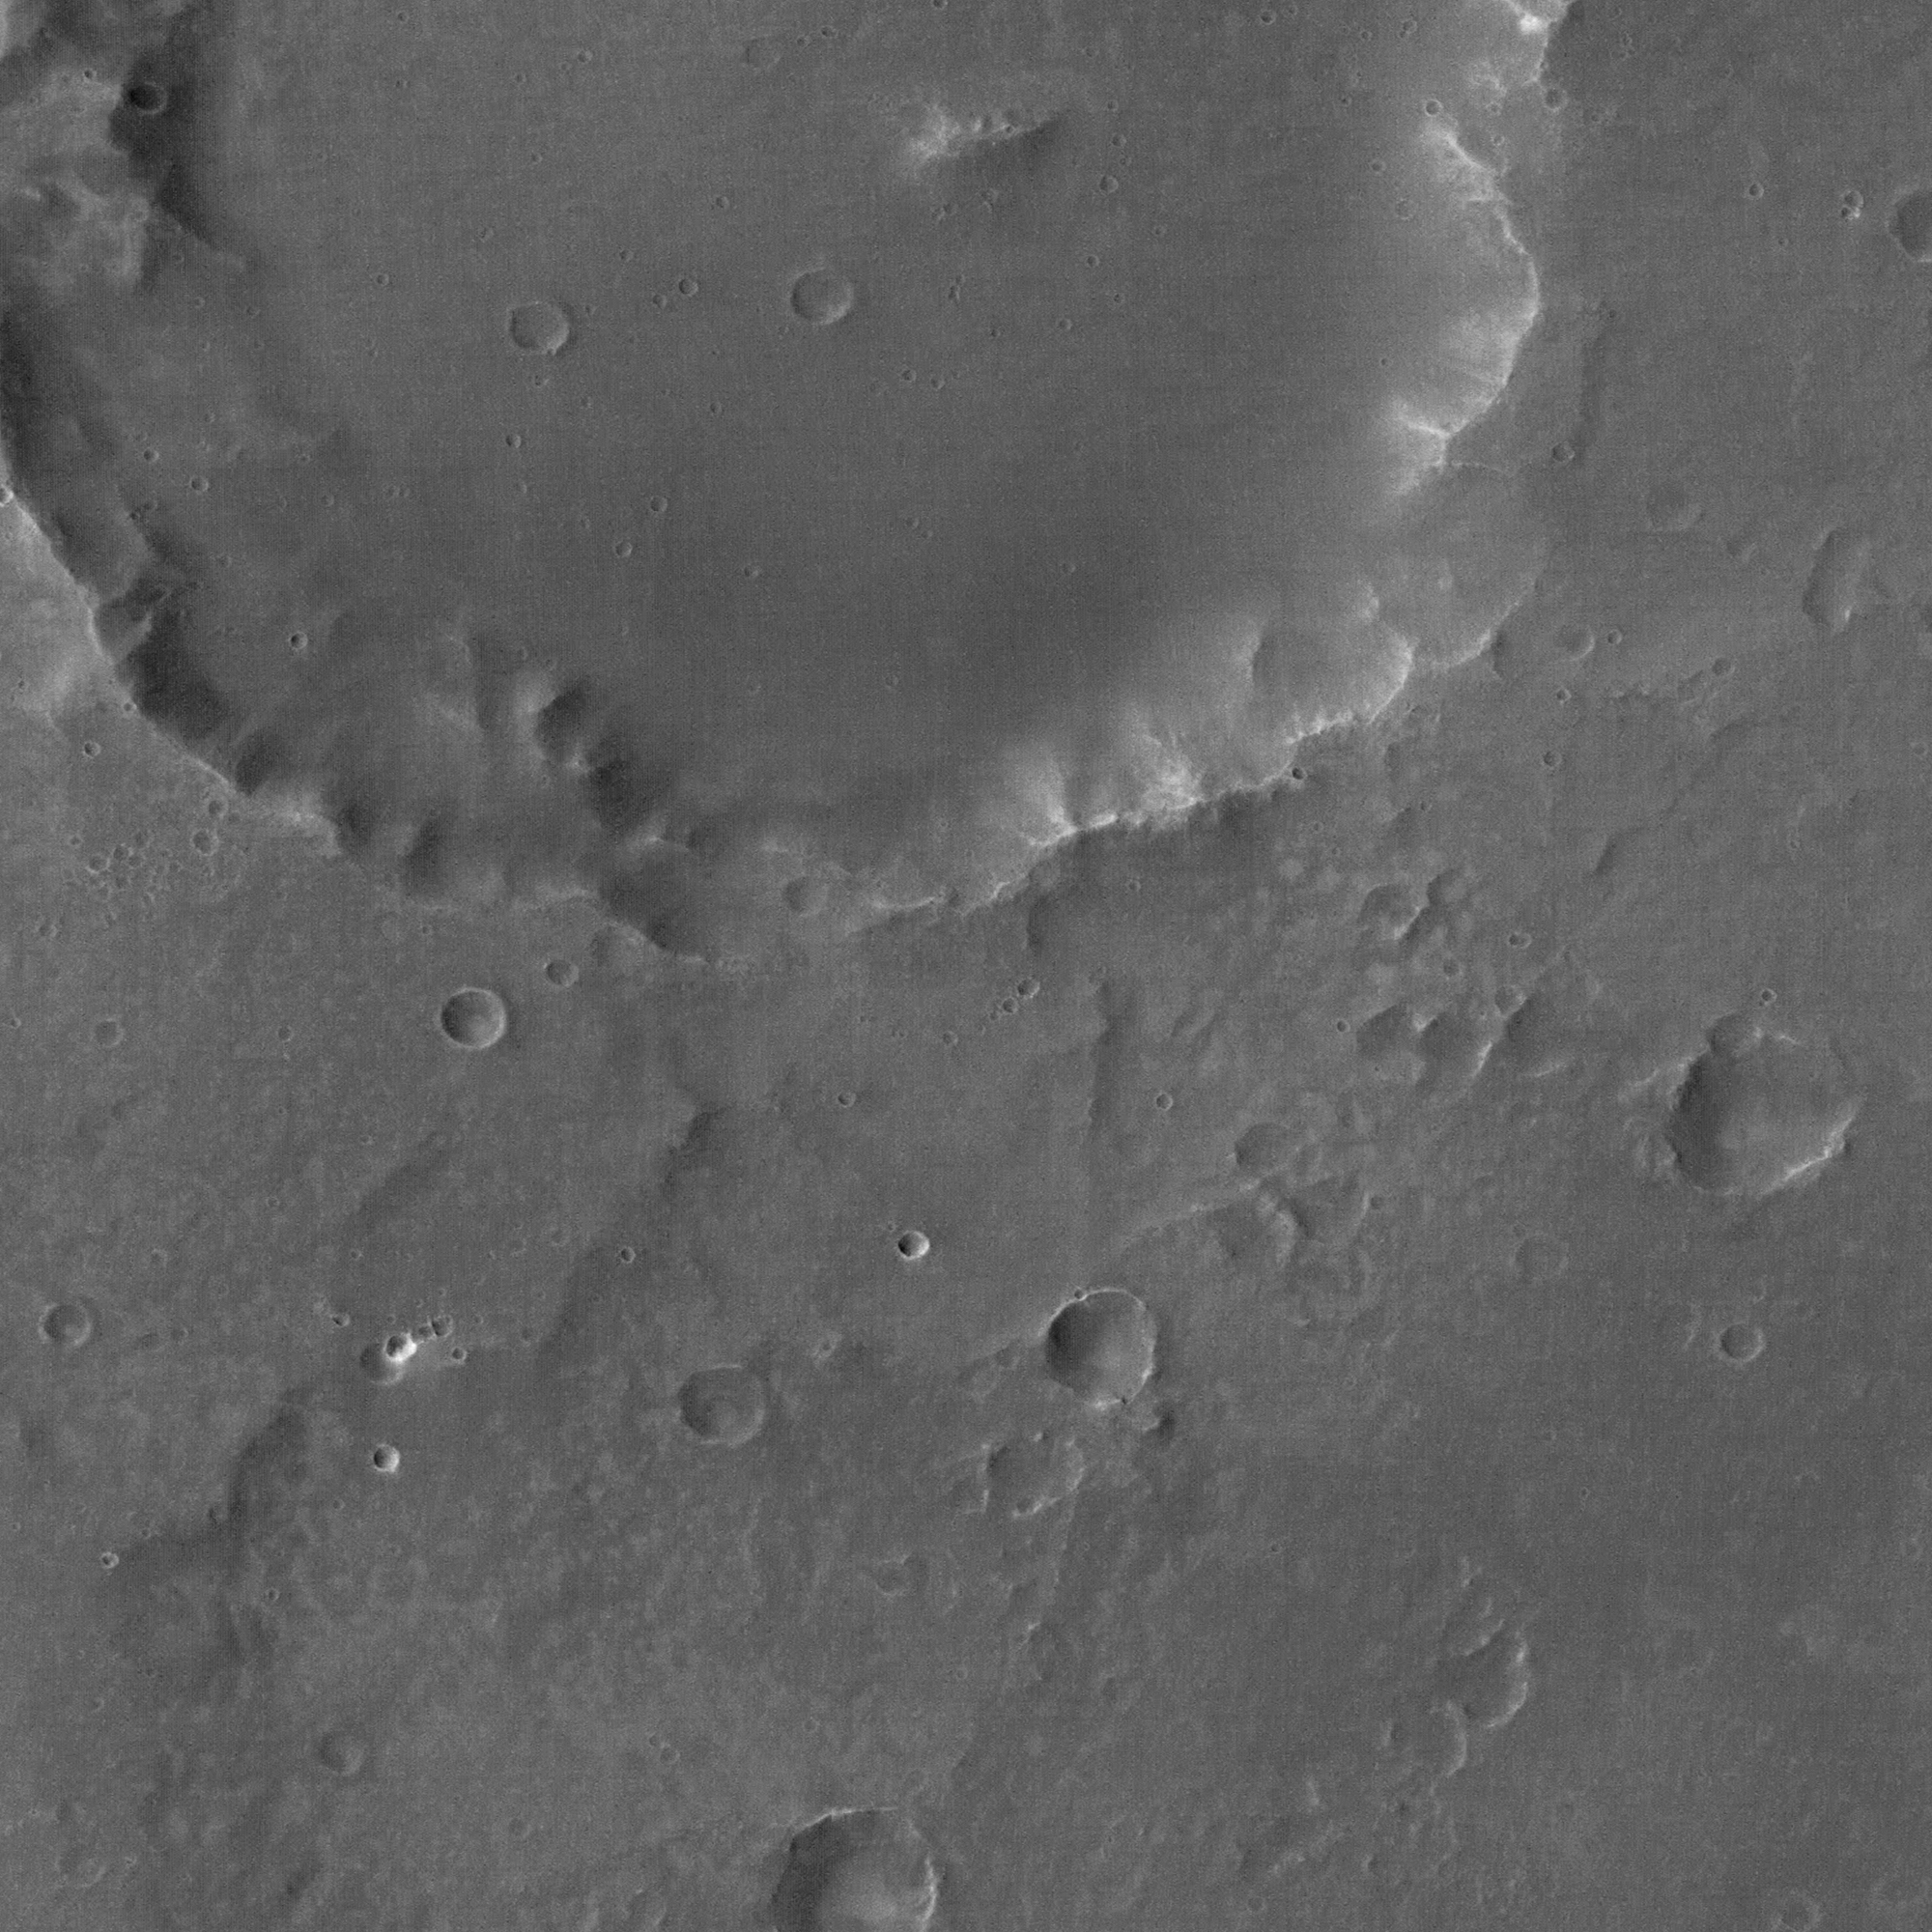crater: (1352, 464, 1545, 655), (1672, 1037, 1836, 1201), (794, 1801, 925, 1932), (1044, 1288, 1161, 1405), (987, 1430, 1077, 1520), (678, 1364, 764, 1453), (1444, 1642, 1529, 1727), (1353, 1014, 1419, 1077), (87, 600, 150, 663), (442, 987, 504, 1051), (1235, 1122, 1297, 1182), (510, 301, 568, 357), (793, 269, 849, 327), (1361, 885, 1414, 938), (1813, 529, 1867, 580), (1647, 479, 1698, 531), (1801, 577, 1852, 628), (1516, 1235, 1566, 1283), (58, 1842, 106, 1890), (1709, 1012, 1757, 1058), (318, 1729, 364, 1776), (44, 1304, 88, 1348), (361, 1343, 403, 1387), (784, 876, 826, 918), (1720, 1322, 1760, 1362), (1426, 874, 1465, 911), (628, 1890, 665, 1927), (1780, 1895, 1817, 1930), (1557, 625, 1592, 662), (961, 1359, 996, 1394), (876, 1560, 909, 1596), (745, 37, 778, 71), (133, 81, 165, 113), (1504, 1099, 1536, 1131), (547, 959, 575, 989), (1493, 985, 1522, 1014), (899, 1231, 927, 1260), (386, 1332, 412, 1361), (96, 1021, 122, 1047), (373, 1445, 398, 1472), (193, 830, 218, 855), (1545, 87, 1568, 110), (142, 1330, 165, 1353), (994, 1348, 1017, 1371), (55, 1801, 78, 1824), (432, 1316, 453, 1338), (1552, 442, 1573, 464), (1394, 198, 1415, 219), (1713, 656, 1734, 678), (550, 1228, 571, 1247), (1444, 957, 1463, 978), (510, 1819, 529, 1838), (189, 1212, 209, 1231), (1099, 175, 1118, 195), (88, 855, 108, 874), (209, 1504, 228, 1523), (679, 278, 697, 297), (1844, 191, 1863, 209), (209, 800, 228, 817), (1017, 978, 1037, 996), (418, 1325, 435, 1343), (133, 830, 150, 847), (520, 1325, 538, 1343), (660, 1746, 678, 1764), (1905, 1541, 1923, 1559), (649, 495, 667, 513), (290, 632, 308, 649), (1247, 1897, 1265, 1914), (1424, 99, 1442, 117), (88, 872, 106, 890), (1796, 1304, 1813, 1322), (39, 924, 57, 939), (1799, 1470, 1815, 1488), (508, 1237, 524, 1254), (1545, 750, 1560, 768), (1001, 996, 1017, 1014), (111, 846, 129, 862), (150, 1249, 166, 1267), (616, 541, 632, 557), (1509, 932, 1525, 948), (821, 1341, 837, 1357), (839, 1092, 855, 1108), (1369, 1196, 1385, 1212), (1155, 1093, 1171, 1109), (143, 448, 159, 464), (172, 1327, 188, 1343), (101, 1552, 117, 1568), (191, 476, 207, 492), (1518, 932, 1534, 948), (133, 428, 149, 444), (1403, 19, 1419, 34), (803, 1718, 817, 1734), (85, 741, 99, 757), (1260, 11, 1276, 25), (1543, 1428, 1557, 1442), (1371, 159, 1385, 173), (747, 679, 761, 694), (579, 50, 593, 64), (1762, 989, 1776, 1003), (743, 564, 757, 579), (1608, 630, 1622, 644), (506, 433, 520, 448), (334, 1313, 349, 1327), (931, 375, 945, 389), (62, 867, 76, 881), (479, 226, 494, 241), (1111, 133, 1125, 147), (943, 1031, 957, 1046), (1748, 182, 1762, 196), (129, 853, 143, 867), (278, 1026, 292, 1040), (869, 380, 883, 395), (1914, 741, 1927, 757), (228, 812, 244, 824), (943, 203, 957, 216), (1557, 688, 1569, 702), (267, 1196, 280, 1210), (1058, 318, 1072, 331), (1086, 255, 1099, 269), (621, 1247, 633, 1261), (143, 499, 157, 511), (320, 494, 333, 508), (533, 373, 545, 387), (218, 556, 230, 570), (653, 294, 665, 308), (902, 370, 916, 382), (717, 195, 729, 209), (99, 885, 111, 899), (982, 189, 994, 203), (648, 1734, 660, 1748), (885, 676, 897, 688), (1842, 207, 1854, 219), (796, 35, 809, 48), (1074, 1288, 1086, 1300), (821, 25, 833, 37), (515, 481, 527, 494), (1578, 1486, 1591, 1499), (709, 402, 722, 414), (1293, 768, 1306, 780), (1106, 99, 1118, 111), (1338, 1021, 1350, 1033), (906, 517, 918, 529), (453, 1348, 465, 1361), (377, 274, 389, 287), (580, 395, 593, 407), (203, 865, 216, 878), (616, 623, 628, 635), (1621, 32, 1633, 44), (1097, 964, 1109, 977), (410, 1330, 423, 1343), (113, 878, 127, 888), (777, 326, 789, 336), (1493, 133, 1504, 145), (1589, 111, 1601, 122), (1129, 879, 1139, 892), (69, 835, 81, 846), (1062, 563, 1074, 573), (1488, 103, 1500, 113), (1085, 46, 1097, 57), (170, 862, 180, 874), (517, 648, 529, 658), (1339, 25, 1352, 35), (1790, 839, 1801, 851), (90, 1698, 103, 1709), (1122, 1394, 1134, 1405), (1154, 225, 1164, 235), (172, 253, 182, 264), (145, 1667, 156, 1677), (621, 249, 632, 260), (18, 679, 28, 690), (561, 62, 571, 73), (134, 211, 145, 221), (1118, 156, 1129, 166), (400, 487, 410, 497), (195, 297, 205, 308), (531, 152, 541, 163), (124, 702, 134, 713), (1778, 237, 1789, 248), (333, 1499, 343, 1509), (269, 1591, 280, 1601), (989, 1010, 1000, 1021), (299, 455, 310, 465), (386, 487, 396, 497), (1115, 292, 1125, 303), (203, 412, 214, 423), (276, 888, 287, 899), (955, 274, 966, 285), (515, 73, 525, 83), (253, 340, 264, 350), (957, 1668, 968, 1679), (85, 69, 96, 80), (396, 80, 407, 90), (359, 1134, 370, 1145), (248, 306, 258, 317), (398, 12, 409, 23), (156, 865, 166, 876), (950, 285, 961, 295), (364, 338, 375, 349), (354, 207, 364, 218), (1539, 62, 1550, 73), (487, 1251, 497, 1261), (150, 874, 161, 885), (290, 635, 301, 646), (586, 304, 596, 313), (534, 1290, 545, 1299), (948, 292, 959, 301), (580, 518, 591, 527), (1380, 357, 1391, 366), (545, 658, 554, 669), (1341, 96, 1350, 106), (147, 885, 156, 895), (350, 1249, 361, 1258), (12, 1017, 21, 1028), (474, 1315, 483, 1325), (131, 511, 140, 522), (1421, 801, 1431, 810), (1612, 5, 1621, 16), (218, 1284, 226, 1295), (1759, 1000, 1767, 1010), (471, 1274, 481, 1283), (1619, 51, 1629, 60), (932, 212, 941, 223), (630, 334, 639, 345), (922, 531, 931, 540), (142, 1529, 150, 1537), (386, 1315, 395, 1323), (1313, 823, 1322, 832), (1399, 30, 1408, 39), (1272, 1545, 1281, 1553), (991, 329, 1000, 338), (593, 1295, 602, 1304), (1361, 30, 1369, 39), (437, 1288, 446, 1297), (1005, 126, 1014, 134), (5, 533, 14, 541), (899, 1030, 908, 1039), (1330, 847, 1339, 856), (368, 349, 377, 357), (1302, 42, 1311, 51), (423, 925, 432, 934), (318, 152, 327, 161), (1645, 16, 1654, 25), (888, 1223, 895, 1231), (202, 341, 209, 350), (414, 1299, 423, 1306), (966, 849, 973, 858), (547, 349, 556, 356), (28, 97, 37, 104), (939, 819, 948, 826), (860, 1016, 867, 1024), (12, 1522, 19, 1530), (662, 387, 669, 396), (1610, 310, 1617, 318), (1373, 1065, 1382, 1072), (1760, 568, 1769, 575), (432, 807, 439, 816), (1629, 48, 1637, 57), (1288, 5, 1295, 12), (711, 349, 718, 356), (278, 1108, 285, 1115), (81, 264, 88, 271), (1479, 1010, 1486, 1017), (1352, 57, 1359, 64), (1355, 71, 1362, 78), (74, 1649, 81, 1656), (405, 1254, 412, 1261), (513, 1221, 520, 1226), (108, 679, 113, 685), (30, 1810, 37, 1813)
